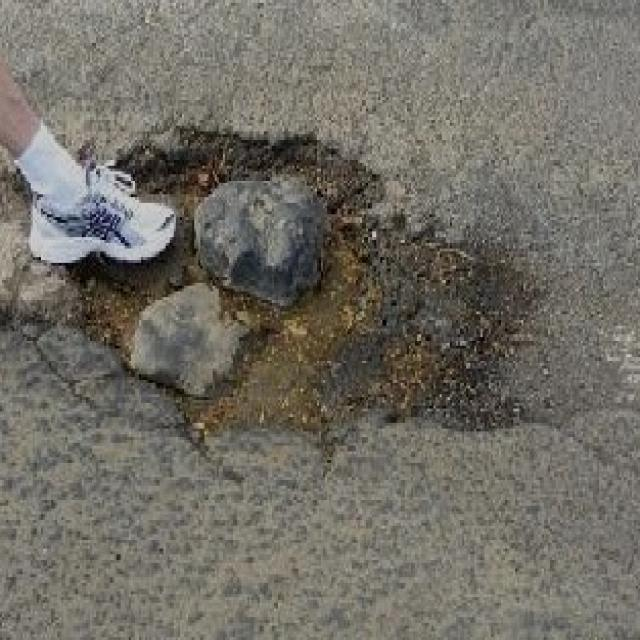road-pothole: (68, 127, 539, 441)
